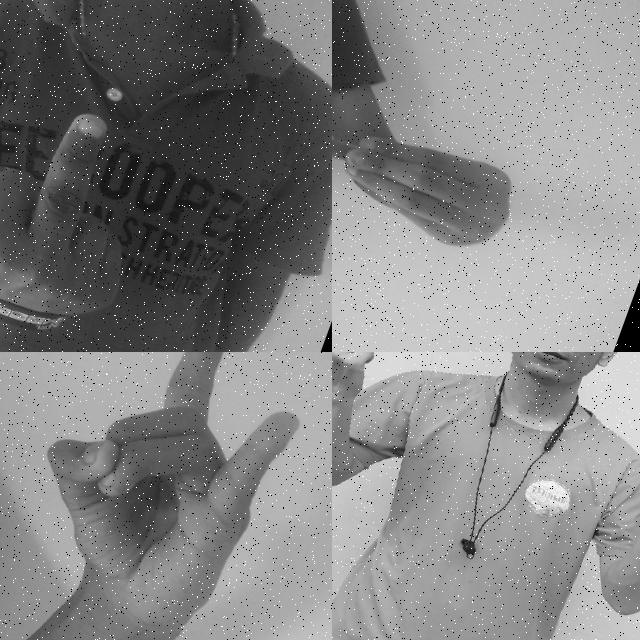Corna: (0, 352, 330, 640)
Five Fathers: (332, 21, 535, 314)
Middle Finger: (0, 62, 177, 352), (332, 352, 405, 414)
